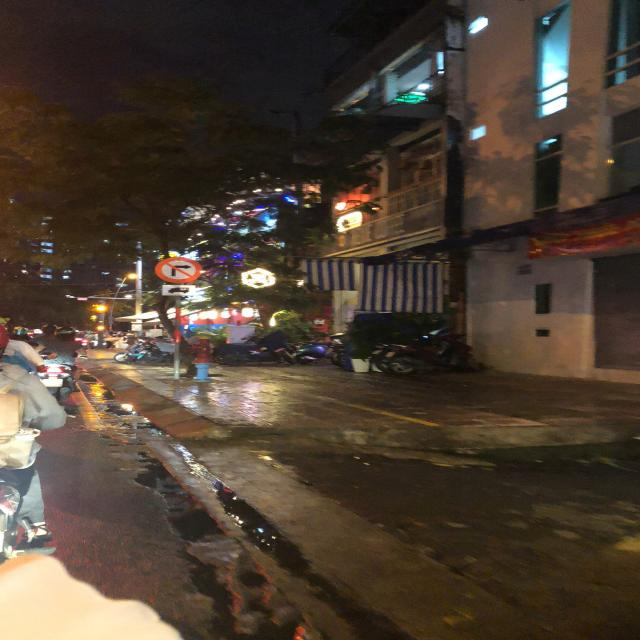Bien bao cam re phai: (151, 255, 206, 285)
